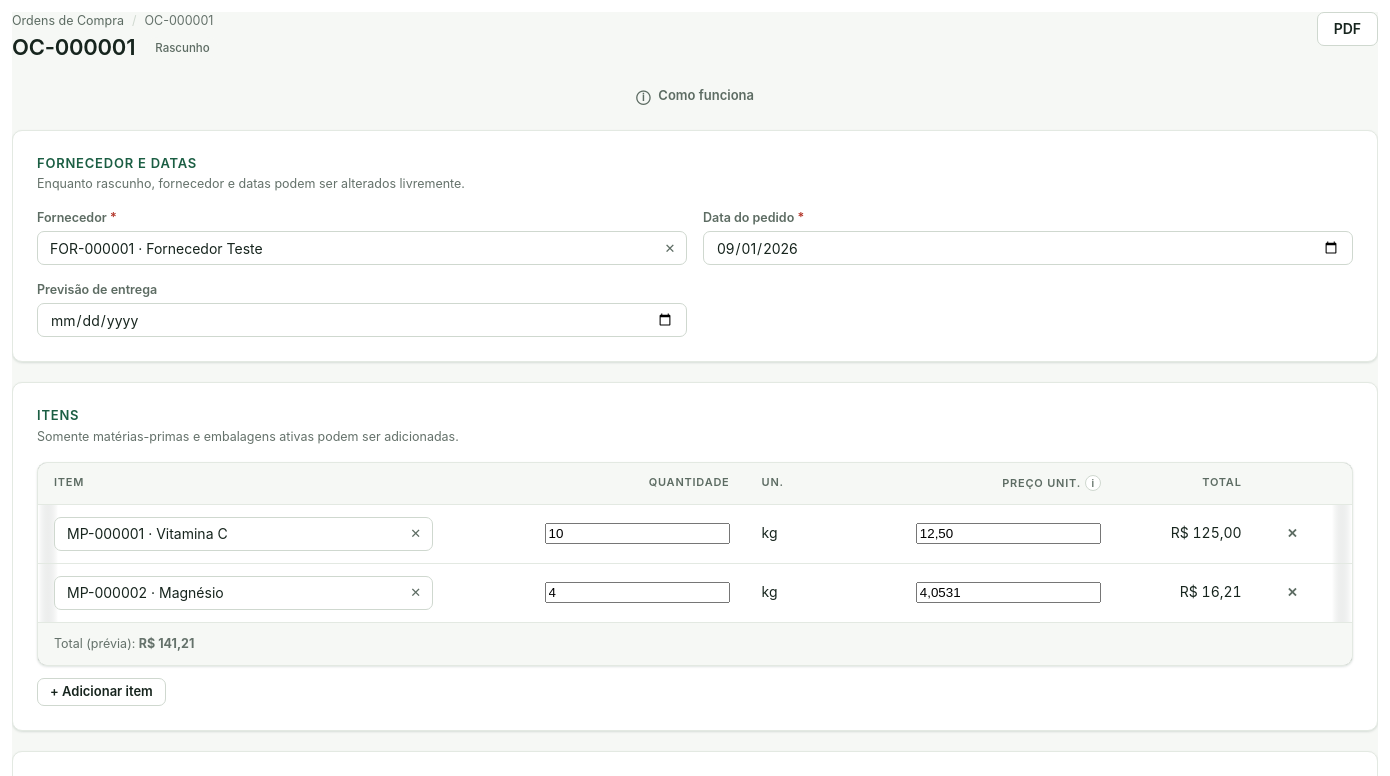
Test: Total da OC em edição é prévia da tela › F. valor ilegível não vira NaN nem zero: fica fora da prévia e é dito
Expected: the heading "OC-000001" is shown, left=12, top=34, right=135, bottom=62
Replace the text in the field named "Preço unitário de MP-000001" with "1.234": (1008, 534) left=916, top=523, right=1101, bottom=544
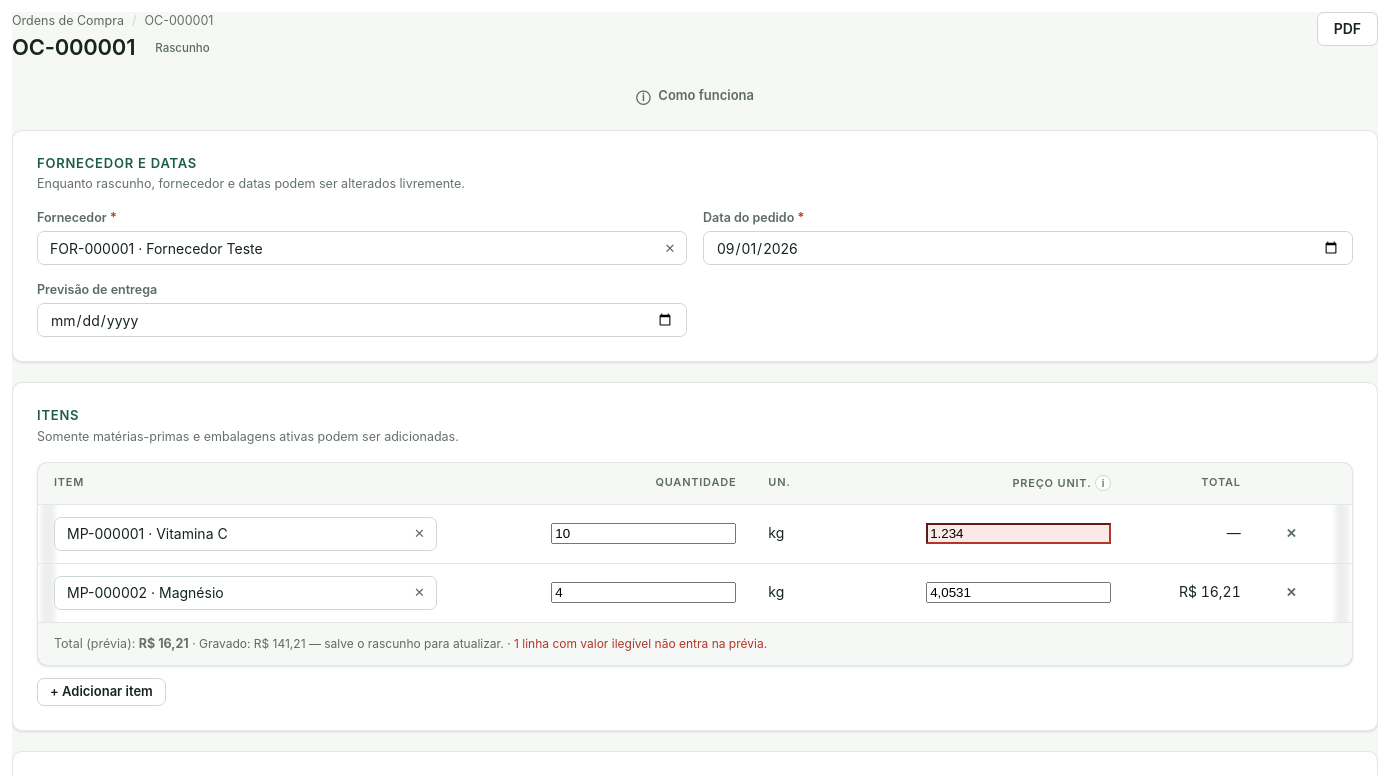
Expected: the element with class "table-foot" shows "Total (prévia): R$ 16,21", left=38, top=622, right=1352, bottom=665
Expected: the element with class "table-foot" shows "1 linha com valor ilegível não entra na prévia.", left=514, top=636, right=767, bottom=651
